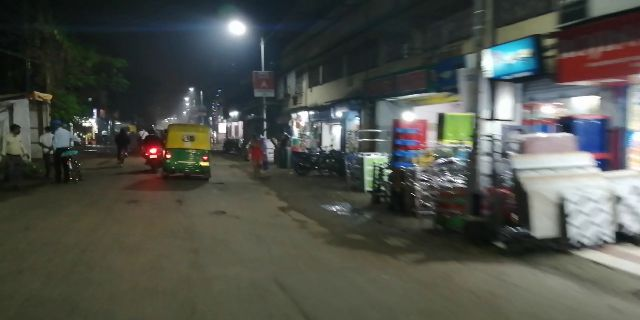Autorickshaw: (162, 121, 214, 183)
Motorbike: (142, 127, 162, 173)
